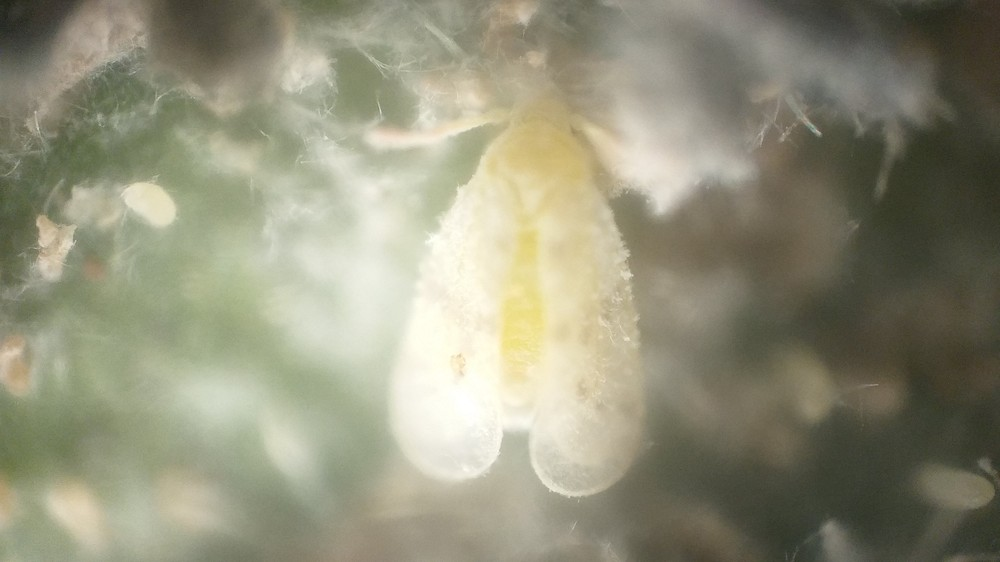Mosca Blanca: (356, 85, 724, 515)
